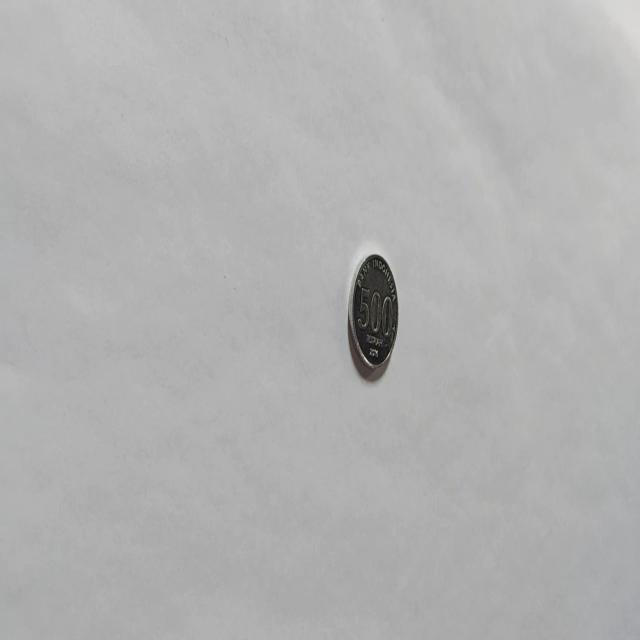lima ratus rupiah: (346, 250, 399, 378)
